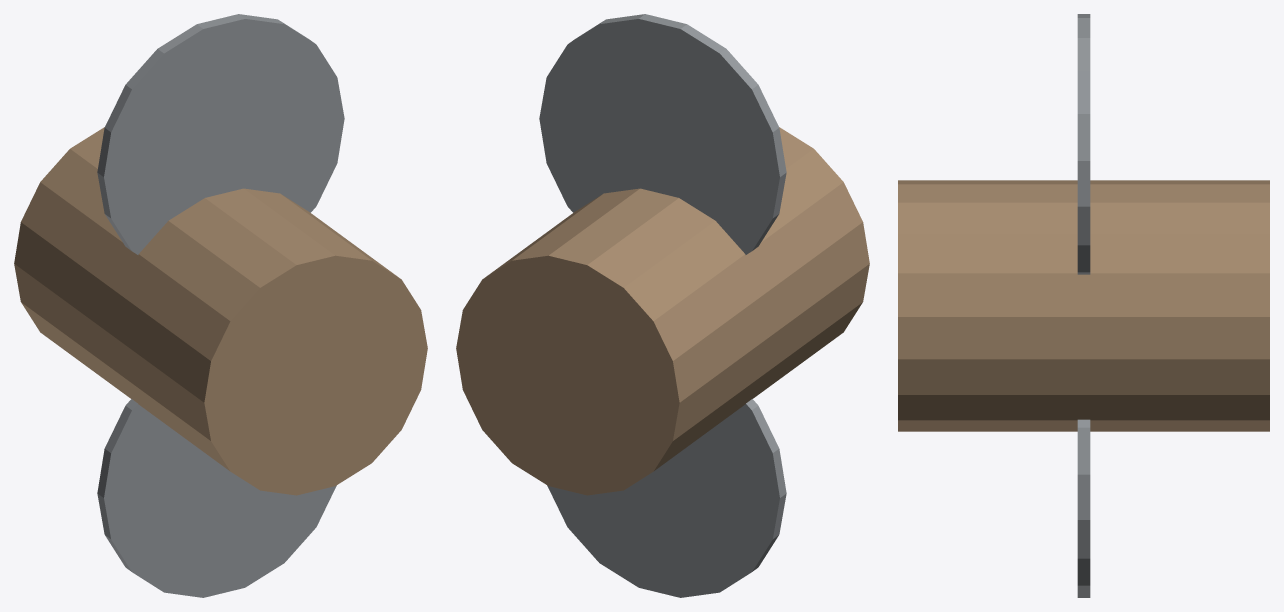
File: barrel_tower.glb
3 renders of one model, left to right at view 1: azimuth 30°, elevation 25°; view 2: azimuth 150°, elevation 25°; view 3: azimuth 270°, elevation 25°, orthographic. The views are drawn at different scales.
Parts seen in each view (by area): view 1: world; view 2: world; view 3: world.
Part boxes in pixels (x1,y1,x2,y2): world: (14,14,427,597); world: (456,14,869,597); world: (898,14,1269,597).
Size of the model in its own units: 1.68 by 3.79 by 2.3.
